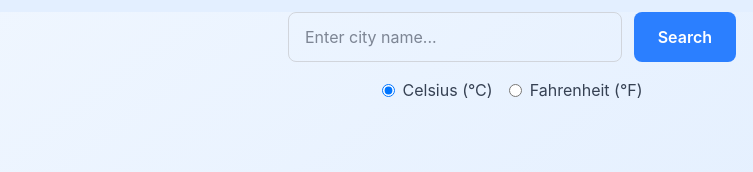
Test: WeatherSearchForm › shows validation error for invalid characters
In the field with placeholder "Enter city name...": point(455, 37) [288,12,622,62], type "New York 123"
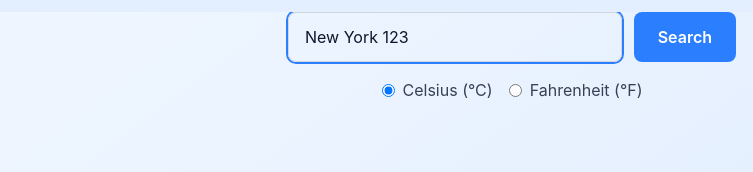
Click the button "Search": point(685, 37) [634,12,736,62]
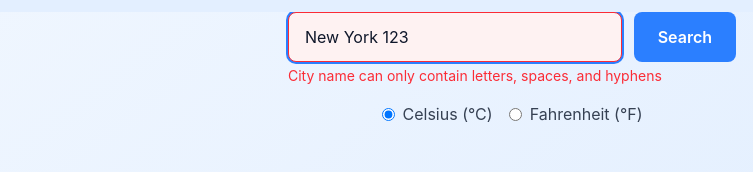
Now the text "City name can only contain letters, spaces, and hyphens" is shown, box [288,67,662,84]
